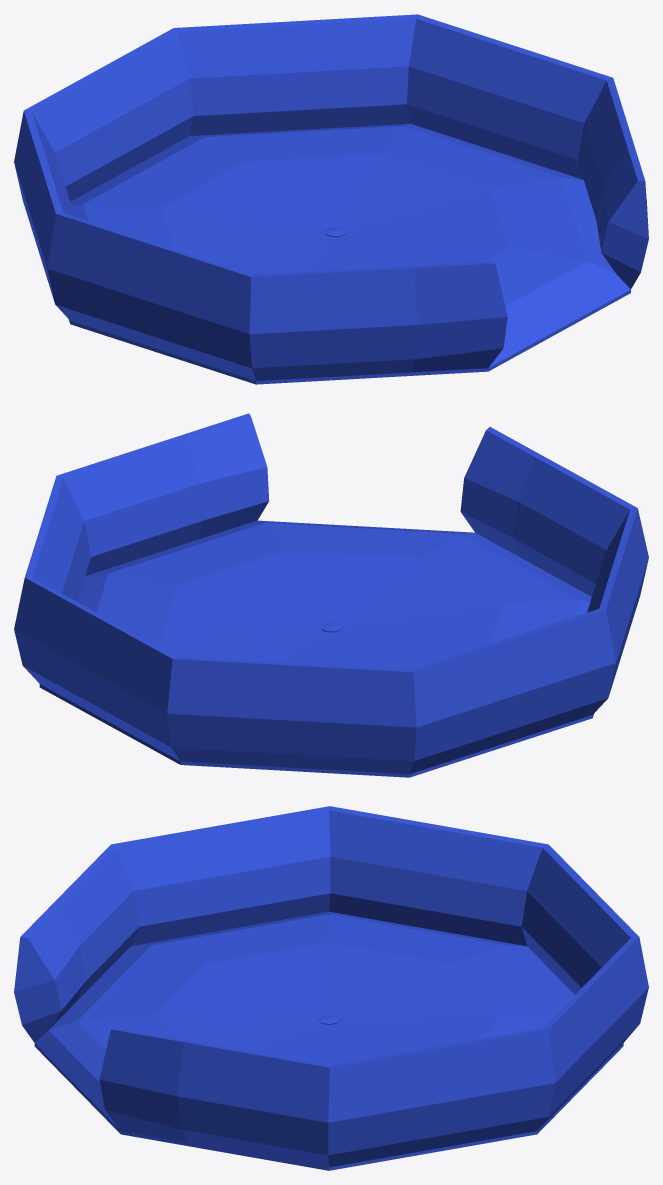
Rendered from DogBasket.fbx.
3 views of the same model, one above another, from view 1: azimuth 30°, elevation 25°; view 2: azimuth 150°, elevation 25°; view 3: azimuth 270°, elevation 25° (orthographic). The views are drawn at different scales.
Visible parts, largest first — view 1: Basket; view 2: Basket; view 3: Basket.
Boxes of the visible parts, x1,y1,x2,y2 form: Basket: (14, 14, 648, 384); Basket: (14, 413, 648, 777); Basket: (14, 806, 648, 1170).
Size of the model in its own units: 218 by 40.96 by 216.
